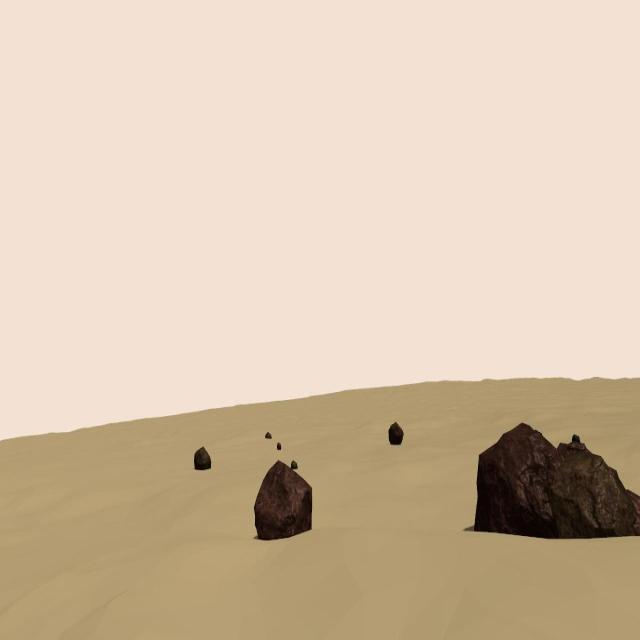rock: (473, 423, 565, 540), (548, 451, 636, 536), (255, 460, 312, 540), (624, 487, 640, 537), (388, 420, 404, 446), (194, 448, 212, 470), (558, 443, 587, 455), (572, 433, 580, 444), (264, 429, 271, 438), (292, 460, 297, 469), (276, 443, 281, 450)
